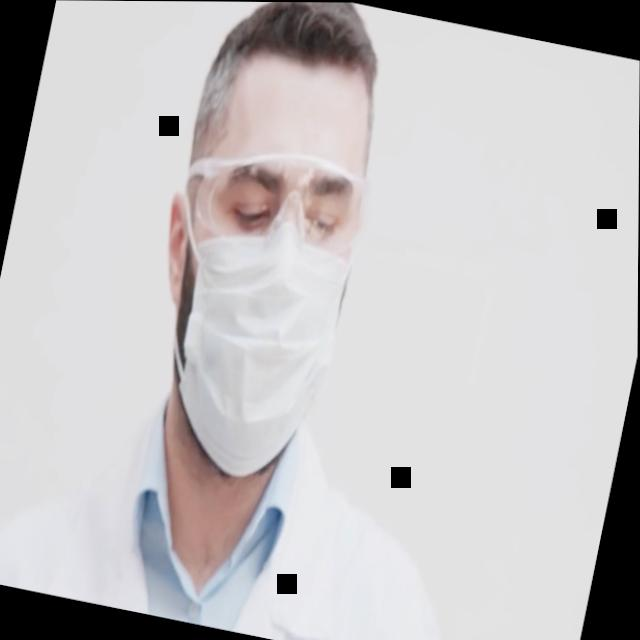Mask: (144, 76, 381, 490)
